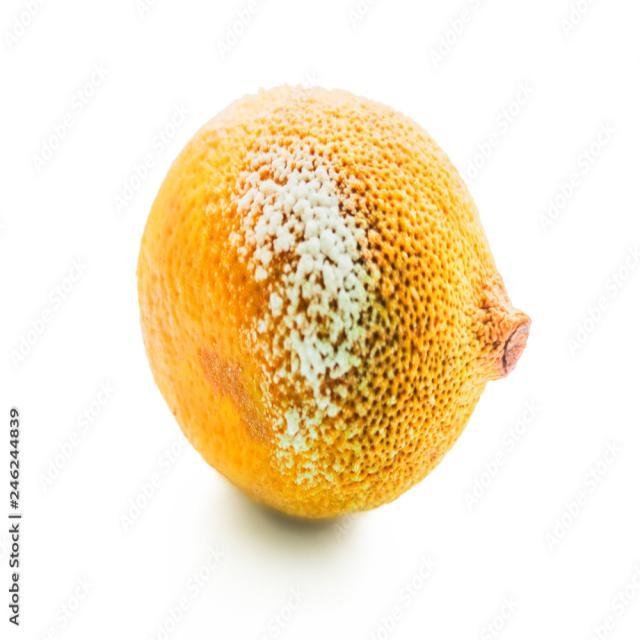Rotten: (134, 84, 534, 520)
